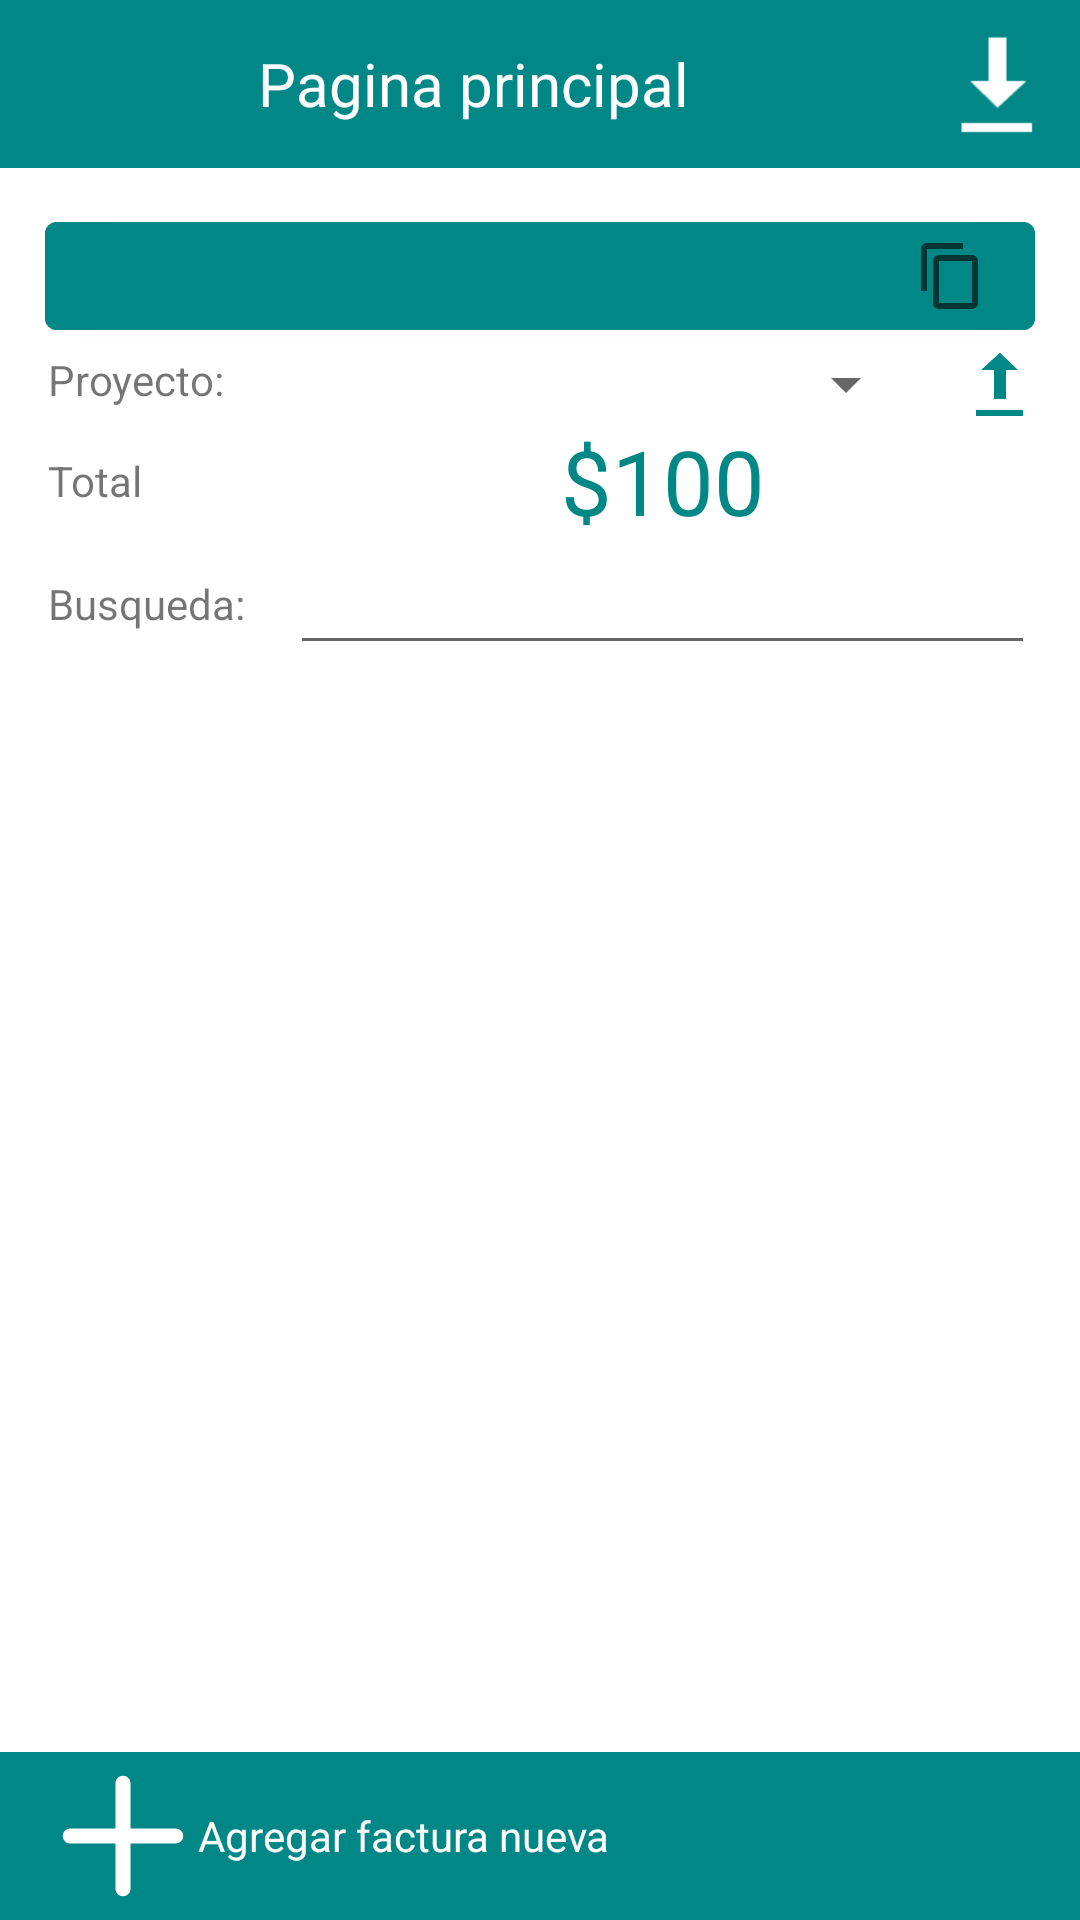

Icons on this 1080 × 1920 Android screen, each with its box as (x1, y1, x2, y2):
add: (62, 1775, 184, 1897)
download: (961, 37, 1033, 133)
upload: (976, 353, 1023, 416)
